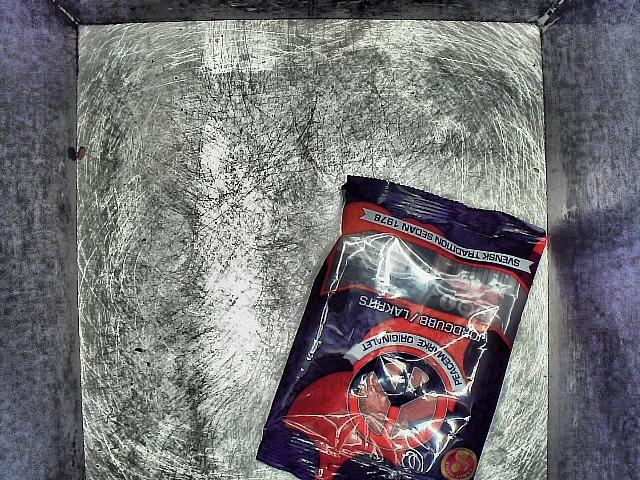Plastic: (223, 155, 567, 480)
